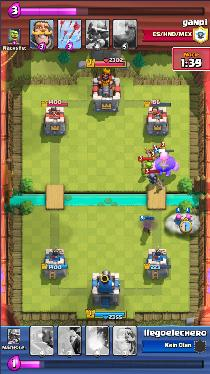ally_archer: (182, 214, 193, 225), (175, 214, 182, 225)
ally_giant: (148, 152, 179, 178)
ally_goblin_cage: (141, 160, 152, 175)
ally_musketeer: (142, 217, 153, 235)
enemy_mini_pekka: (148, 172, 165, 186)
enemy_spear_goblin: (149, 154, 156, 164), (153, 147, 159, 157), (160, 146, 167, 152)
